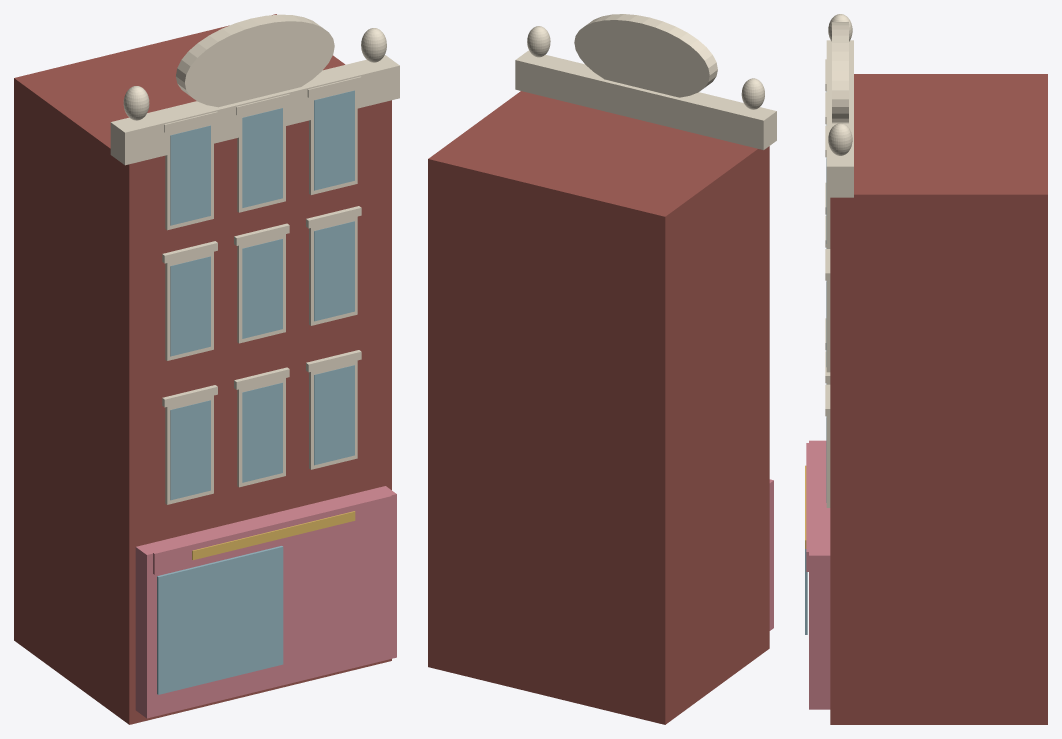
The model's file is canal-house-narrow-c.glb.
3 renders of one model, left to right at view 1: azimuth 30°, elevation 25°; view 2: azimuth 150°, elevation 25°; view 3: azimuth 270°, elevation 25°, orthographic. The views are drawn at different scales.
Visible parts, largest first — view 1: Cube, Cube.002, Cube.003, Cylinder, Cube.001, Cube.004, Cube.009, Cube.012, Cube.018, Cube.021, Cube.024, Cube.027 (+15 smaller); view 2: Cube, Cube.001, Cylinder, Cube.002, Sphere.001, Sphere; view 3: Cube, Cube.002, Cube.001, Cylinder, Sphere.001, Cube.023, Cube.014.
Part boxes in pixels (x1=…): Cube: x1=14, y1=14, x2=391, y2=724; Cube.002: x1=135, y1=486, x2=396, y2=718; Cube.003: x1=157, y1=546, x2=283, y2=694; Cylinder: x1=176, y1=14, x2=334, y2=107; Cube.001: x1=110, y1=55, x2=399, y2=165; Cube.004: x1=153, y1=495, x2=391, y2=574; Cube.009: x1=170, y1=400, x2=210, y2=500; Cube.012: x1=242, y1=382, x2=282, y2=482; Cube.018: x1=170, y1=256, x2=210, y2=356; Cube.021: x1=242, y1=238, x2=282, y2=338; Cube.024: x1=314, y1=221, x2=354, y2=321; Cube.027: x1=170, y1=125, x2=210, y2=225; Cube: x1=428, y1=91, x2=769, y2=724; Cube.001: x1=515, y1=50, x2=776, y2=149; Cylinder: x1=574, y1=14, x2=717, y2=97; Cube.002: x1=769, y1=479, x2=773, y2=630; Sphere.001: x1=527, y1=26, x2=550, y2=57; Sphere: x1=741, y1=78, x2=764, y2=109; Cube: x1=830, y1=74, x2=1047, y2=724; Cube.002: x1=809, y1=440, x2=830, y2=709; Cube.001: x1=826, y1=40, x2=853, y2=197; Cylinder: x1=832, y1=22, x2=848, y2=123; Sphere.001: x1=828, y1=123, x2=852, y2=155; Cube.023: x1=826, y1=280, x2=830, y2=372; Cube.014: x1=826, y1=416, x2=830, y2=507.
Size of the model in its own units: 4.4 by 10.2 by 3.57.
